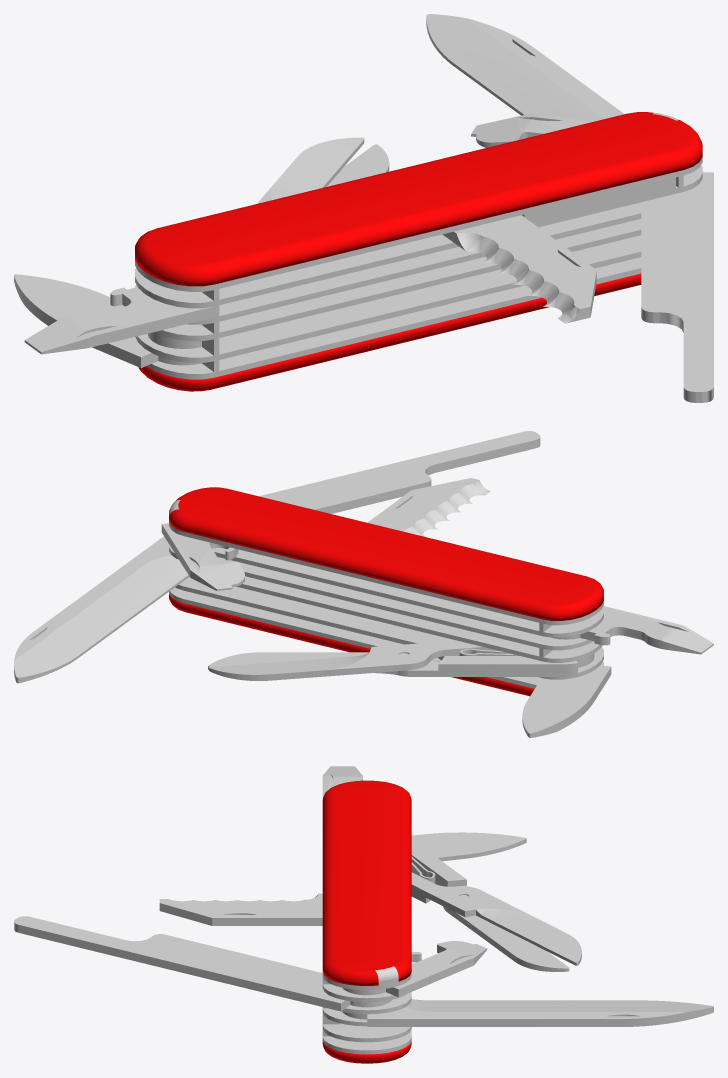
Rendered from Knife.glb.
3 views of the same model, one above another, from view 1: azimuth 30°, elevation 25°; view 2: azimuth 150°, elevation 25°; view 3: azimuth 270°, elevation 25° (orthographic). The views are drawn at different scales.
Parts seen in each view (by area): view 1: Knife, Tool_2, Tool_3, Tool_4, Tool_6, Tool_5, Tools_7, Tool_1; view 2: Knife, Tool_5, Tool_3, Tool_2, Tools_7, Tool_4, Tool_6, Tool_1; view 3: Knife, Tool_2, Tool_3, Tool_5, Tool_4, Tool_1, Tools_7, Tool_6.
Boxes of the visible parts, x1,y1,x2,y2 form: Knife: [135, 112, 702, 391]; Tool_2: [641, 172, 713, 402]; Tool_3: [426, 14, 703, 172]; Tool_4: [442, 215, 596, 323]; Tool_6: [24, 287, 219, 354]; Tool_5: [148, 137, 389, 348]; Tools_7: [14, 274, 219, 372]; Tool_1: [471, 113, 683, 187]; Knife: [169, 487, 603, 696]; Tool_5: [208, 640, 594, 680]; Tool_3: [14, 536, 189, 683]; Tool_2: [259, 431, 540, 513]; Tools_7: [522, 665, 611, 737]; Tool_4: [367, 478, 490, 536]; Tool_6: [552, 606, 713, 654]; Tool_1: [161, 523, 244, 590]; Knife: [322, 780, 411, 1063]; Tool_2: [14, 916, 391, 1011]; Tool_3: [322, 999, 713, 1026]; Tool_5: [411, 839, 581, 971]; Tool_4: [159, 893, 322, 925]; Tool_1: [322, 941, 487, 997]; Tools_7: [411, 832, 526, 861]; Tool_6: [322, 766, 362, 799].
Bounding box in the file's own units: 0.4118 × 0.0719 × 0.493.
